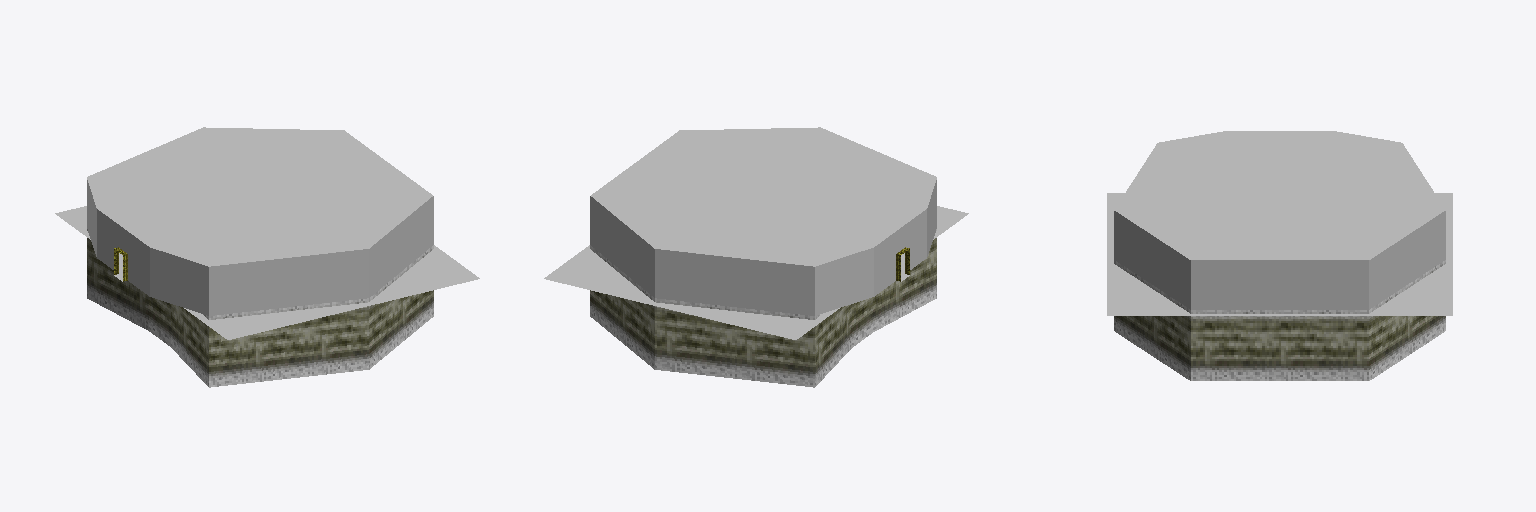
3 renders of one model, left to right at view 1: azimuth 30°, elevation 25°; view 2: azimuth 150°, elevation 25°; view 3: azimuth 270°, elevation 25°, orthographic.
Visible parts, largest first — view 1: Floor2#Room5, Floor2#Room5#Water; view 2: Floor2#Room5, Floor2#Room5#Water; view 3: Floor2#Room5, Floor2#Room5#Water.
Boxes of the visible parts, x1=… form: Floor2#Room5: x1=87, y1=127, x2=433, y2=387; Floor2#Room5#Water: x1=55, y1=206, x2=479, y2=339; Floor2#Room5: x1=590, y1=127, x2=936, y2=387; Floor2#Room5#Water: x1=544, y1=206, x2=968, y2=339; Floor2#Room5: x1=1114, y1=131, x2=1445, y2=380; Floor2#Room5#Water: x1=1107, y1=193, x2=1452, y2=315.
Bounding box in the file's own units: 1080 × 453 × 1176.
Materials: 8 (3 with a texture image).